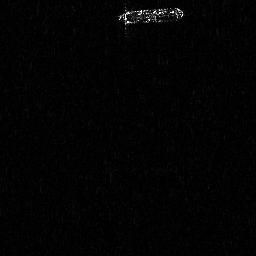ship: (116, 5, 186, 31)
